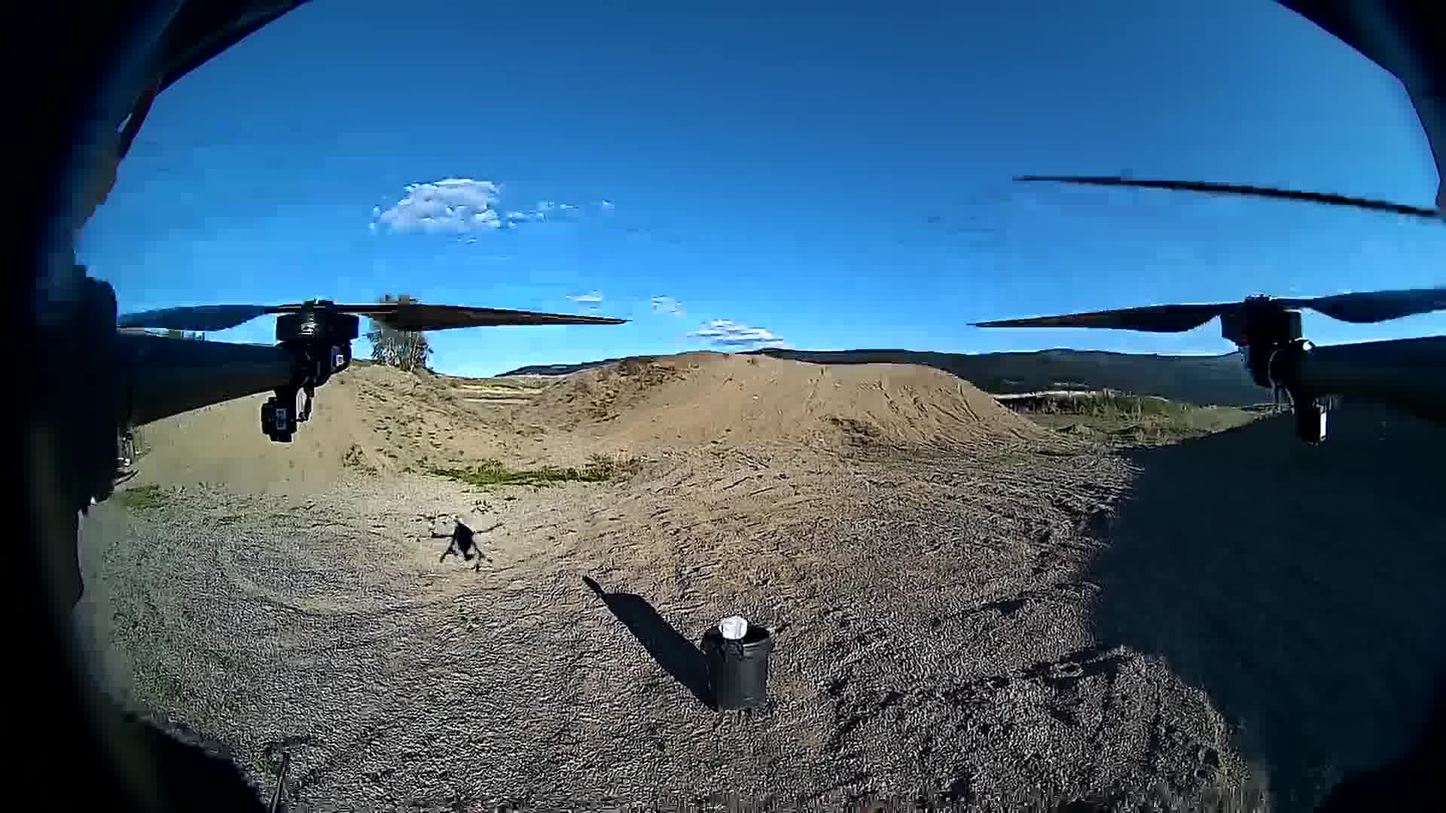Target: (717, 613, 749, 640)
